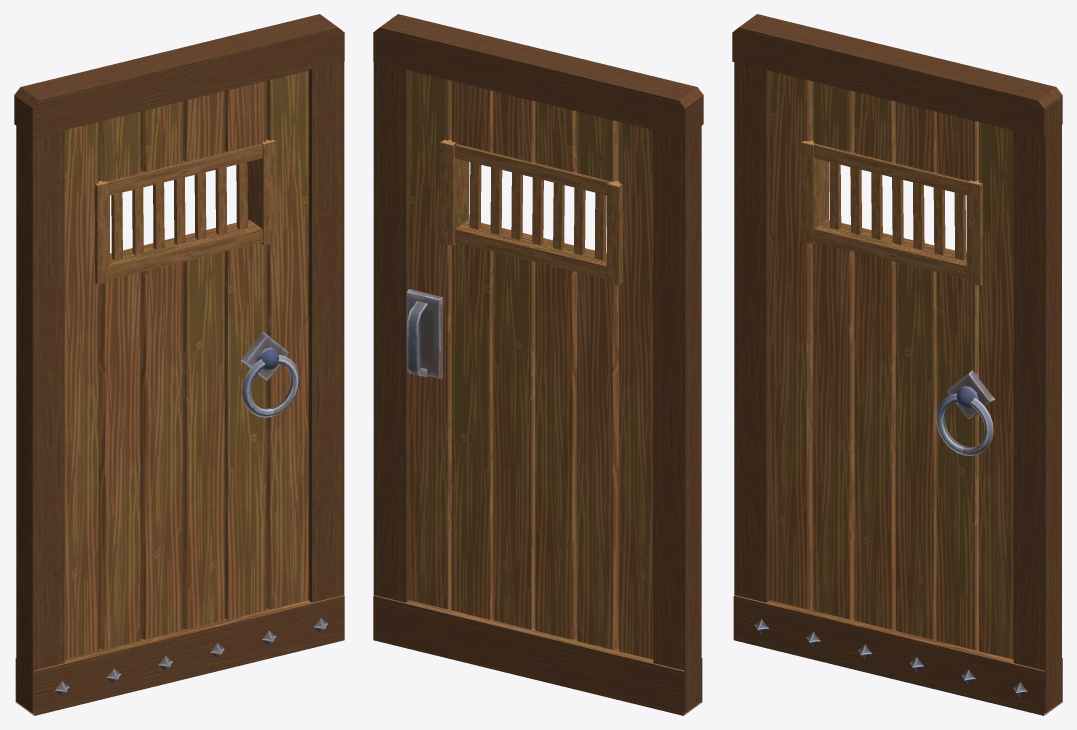
File: door_flat_1.glb
The picture shows the model from 3 angles, left to right: view 1: azimuth 30°, elevation 25°; view 2: azimuth 150°, elevation 25°; view 3: azimuth 330°, elevation 25°; orthographic projection.
Parts seen in each view (by area): view 1: Door_8_Flat; view 2: Door_8_Flat; view 3: Door_8_Flat.
Part boxes in pixels (left/top/right/bottom): Door_8_Flat: left=14, top=14, right=344, bottom=715; Door_8_Flat: left=373, top=14, right=703, bottom=715; Door_8_Flat: left=732, top=14, right=1062, bottom=715.
Bounding box in the file's own units: 1.12 × 2.1 × 0.1994.
Materials: 2 (2 with a texture image).
